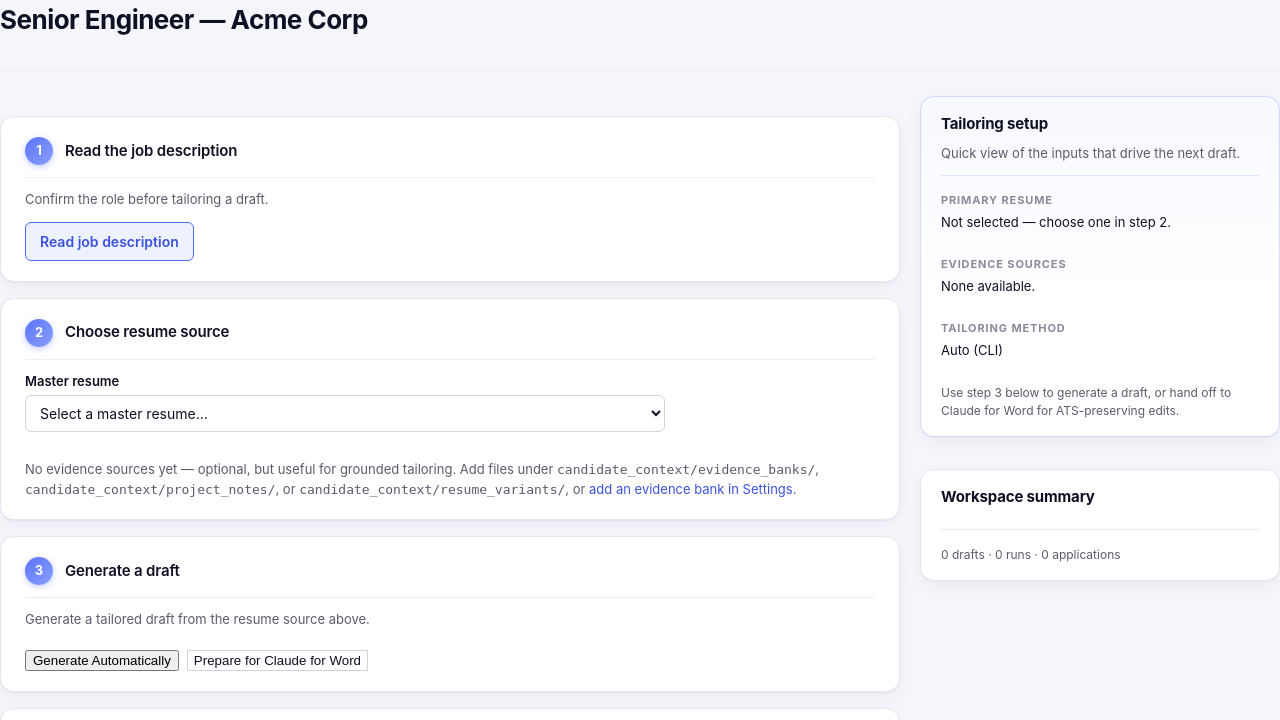
Test: JobDetailPage Claude for Word handoff flow › hides the Import button until the Word result file is on disk
The width and height of the screenshot is (1280, 720).
Expected: the heading "Senior Engineer — Acme Corp" is shown, [0,0,368,39]
Select "Generalist" in the dropdown labelled "Master resume" at (345, 414), box [25,395,665,432]
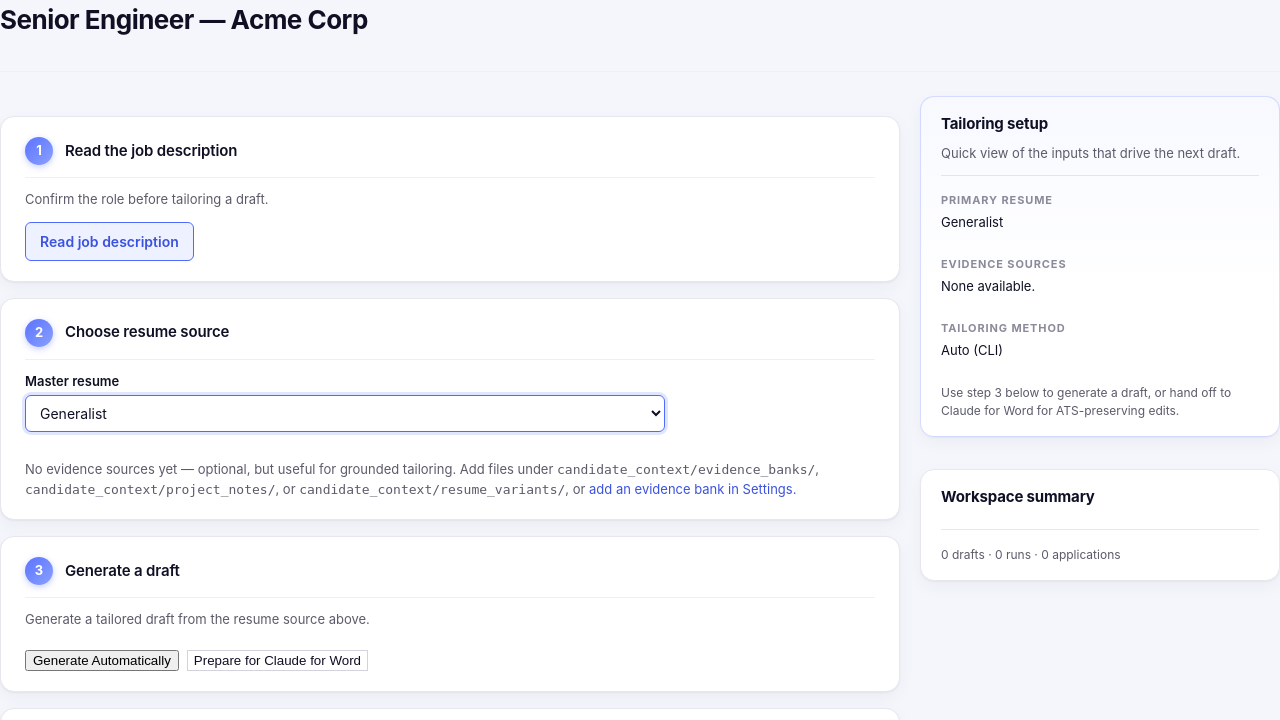
Click the button "Prepare for Claude for Word" at (277, 660), box [187,650,368,670]
(page scrolled)
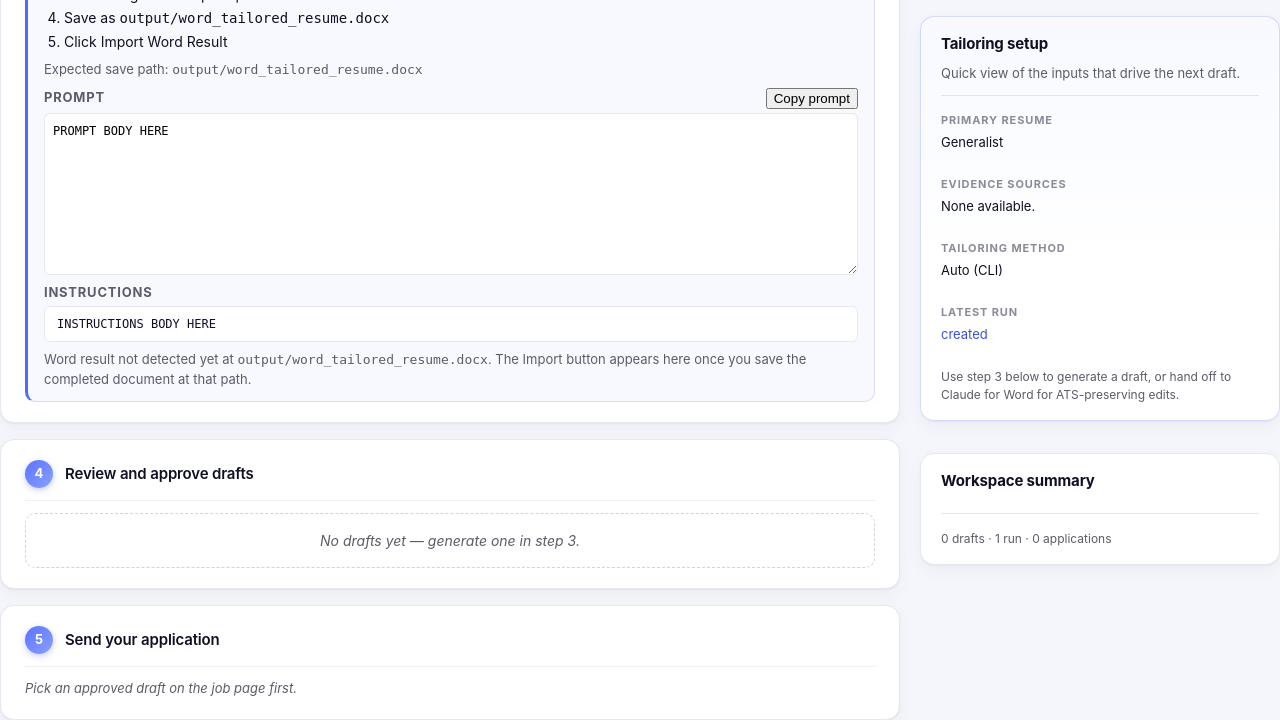
Result: the text "Word result not detected yet" is shown at [44,351,234,367]
